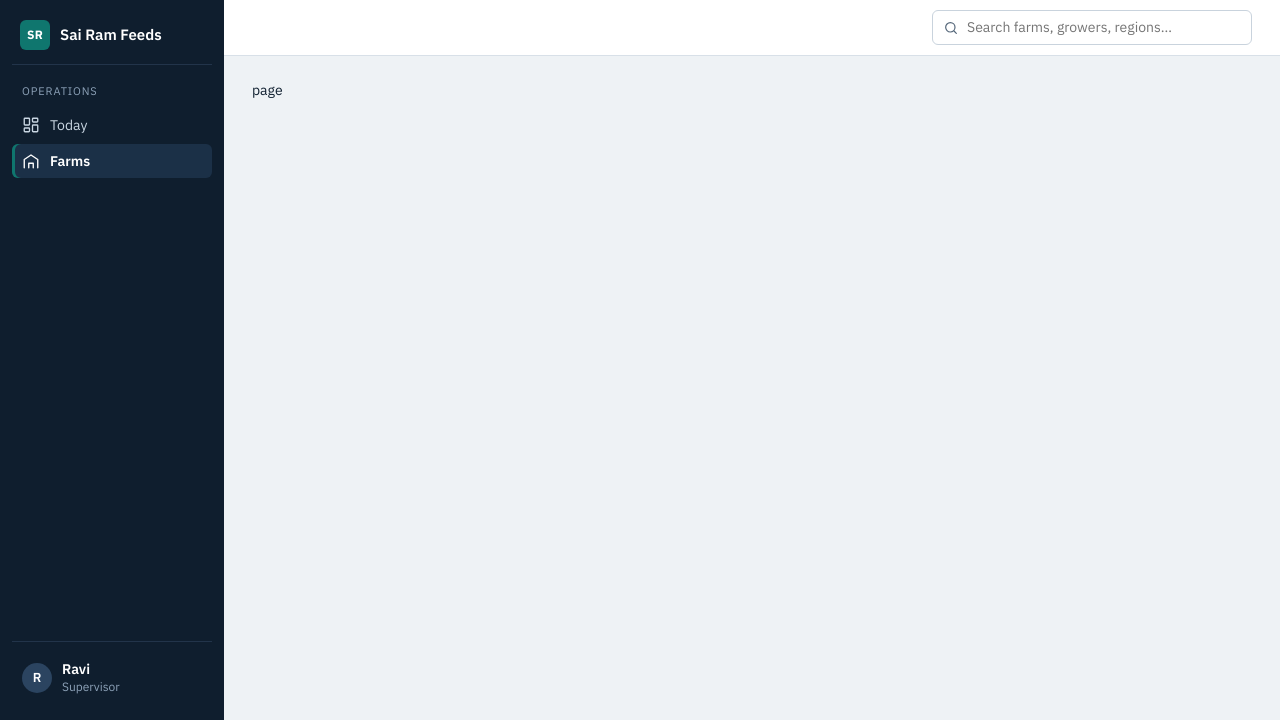
Test: user menu: settings only for the admin; logout always
The image size is (1280, 720).
Click the button "R Ravi supervisor" at {"x": 112, "y": 678}, box [12,652,212,704]
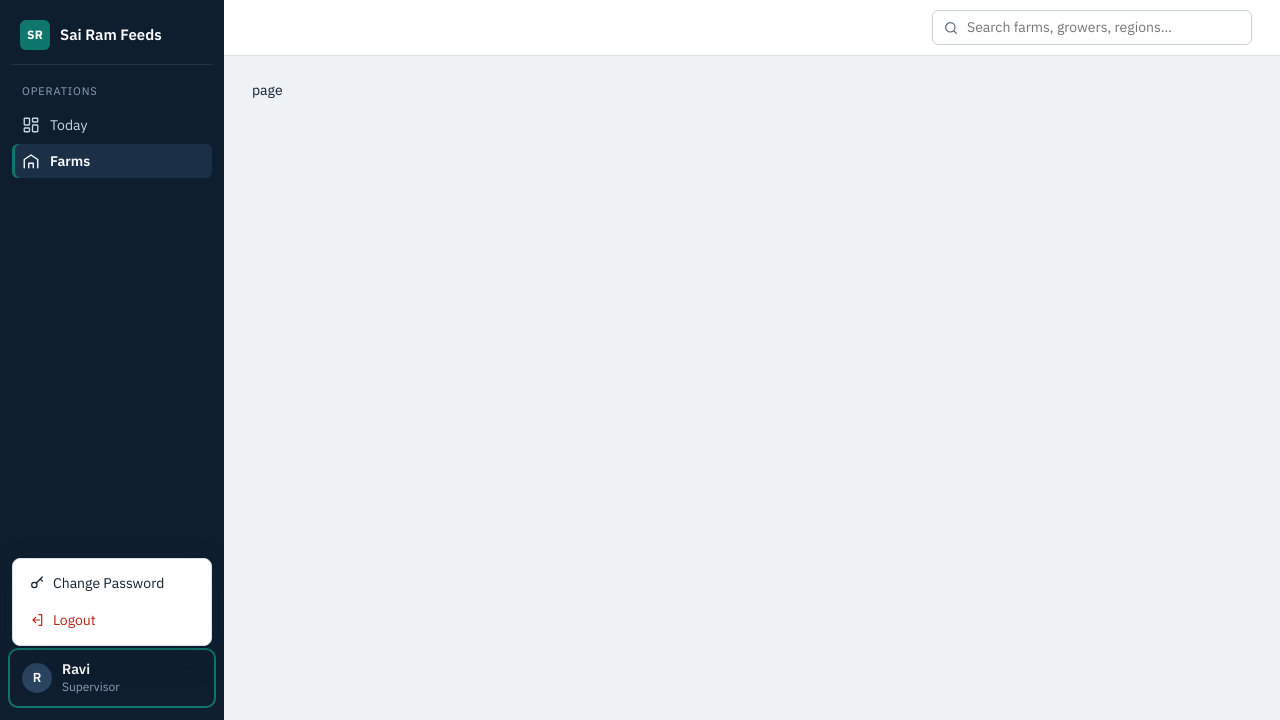
expect the button "Logout" is shown: met, box [19,602,205,639]
